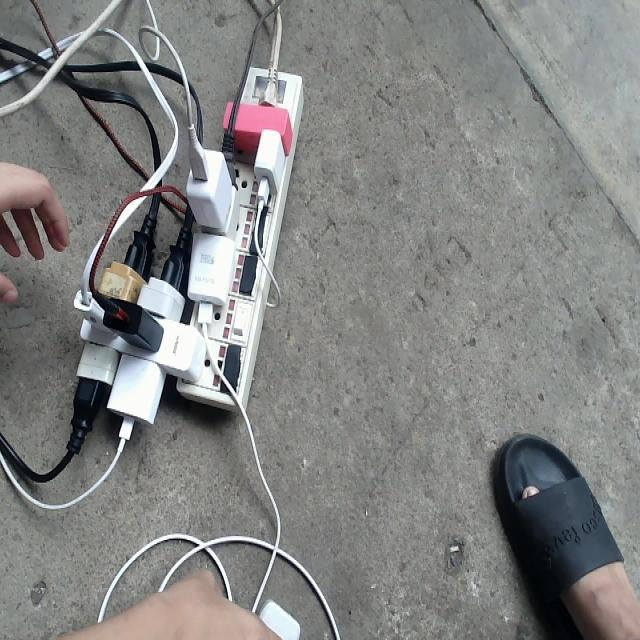-: (69, 62, 303, 426)
